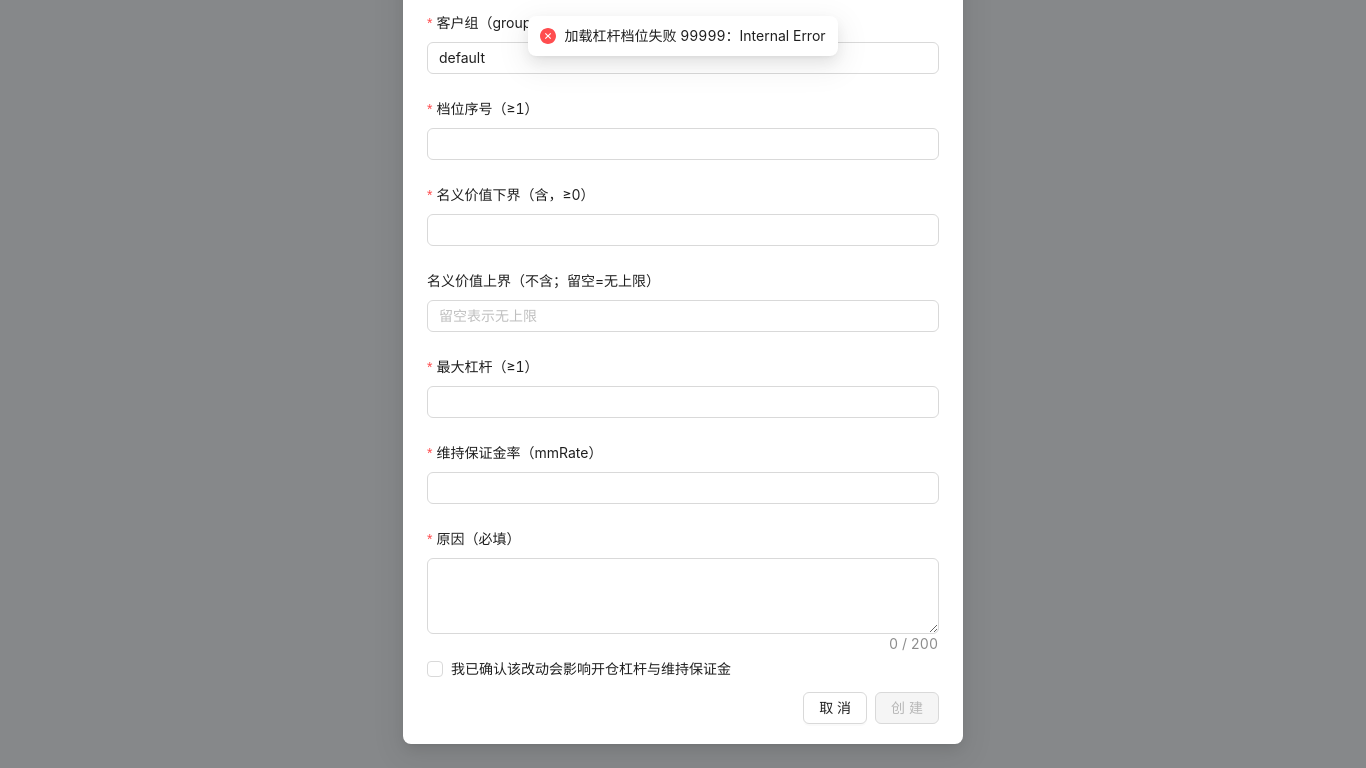
Test: TierFormModal（新建/校验/reason 二次确认） › acknowledge 未勾选时创建按钮禁用，勾选后启用
(page scrolled)
Check: the button "创 建" is disabled, box [875,692,939,724]
Click the text "我已确认该改动会影响开仓杠杆与维持保证金" at (591, 669), box [443,658,739,680]
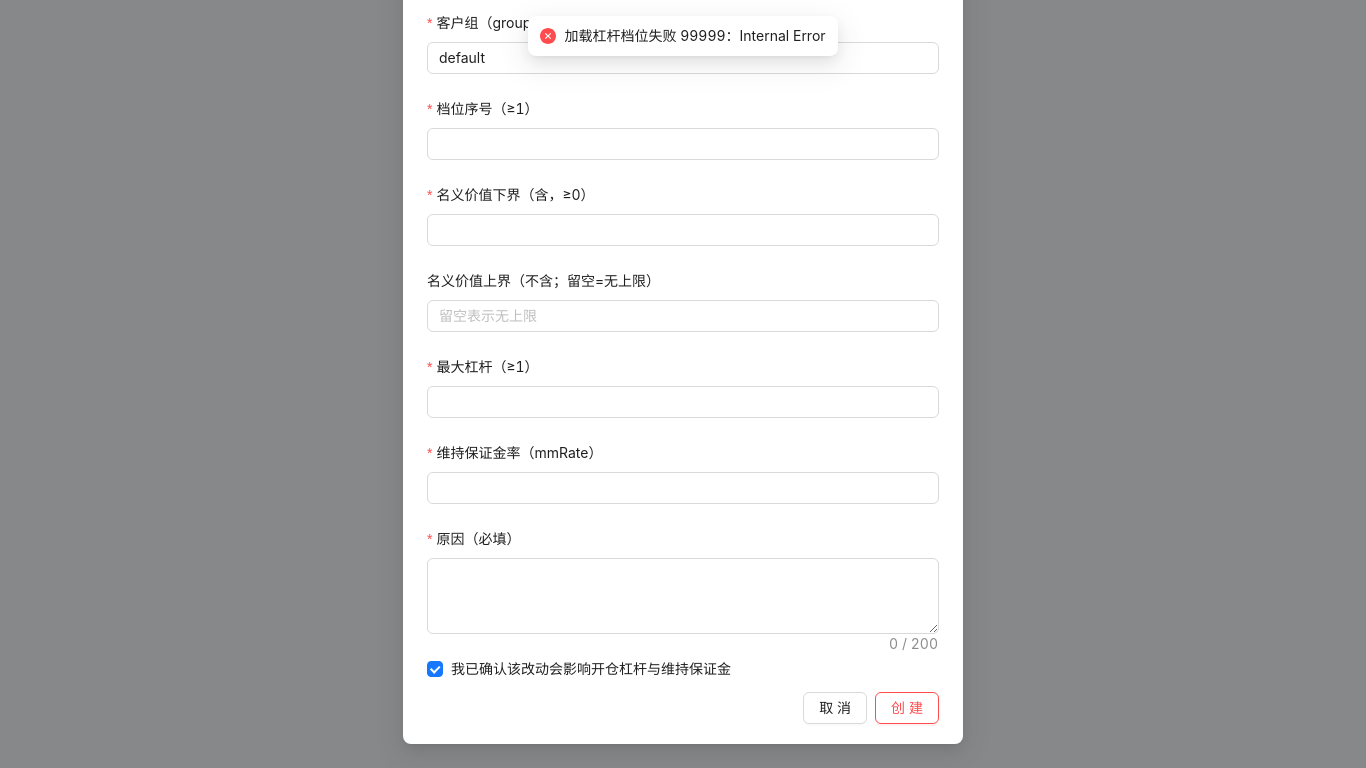
Check: the button "创 建" is enabled, box [875,692,939,724]
